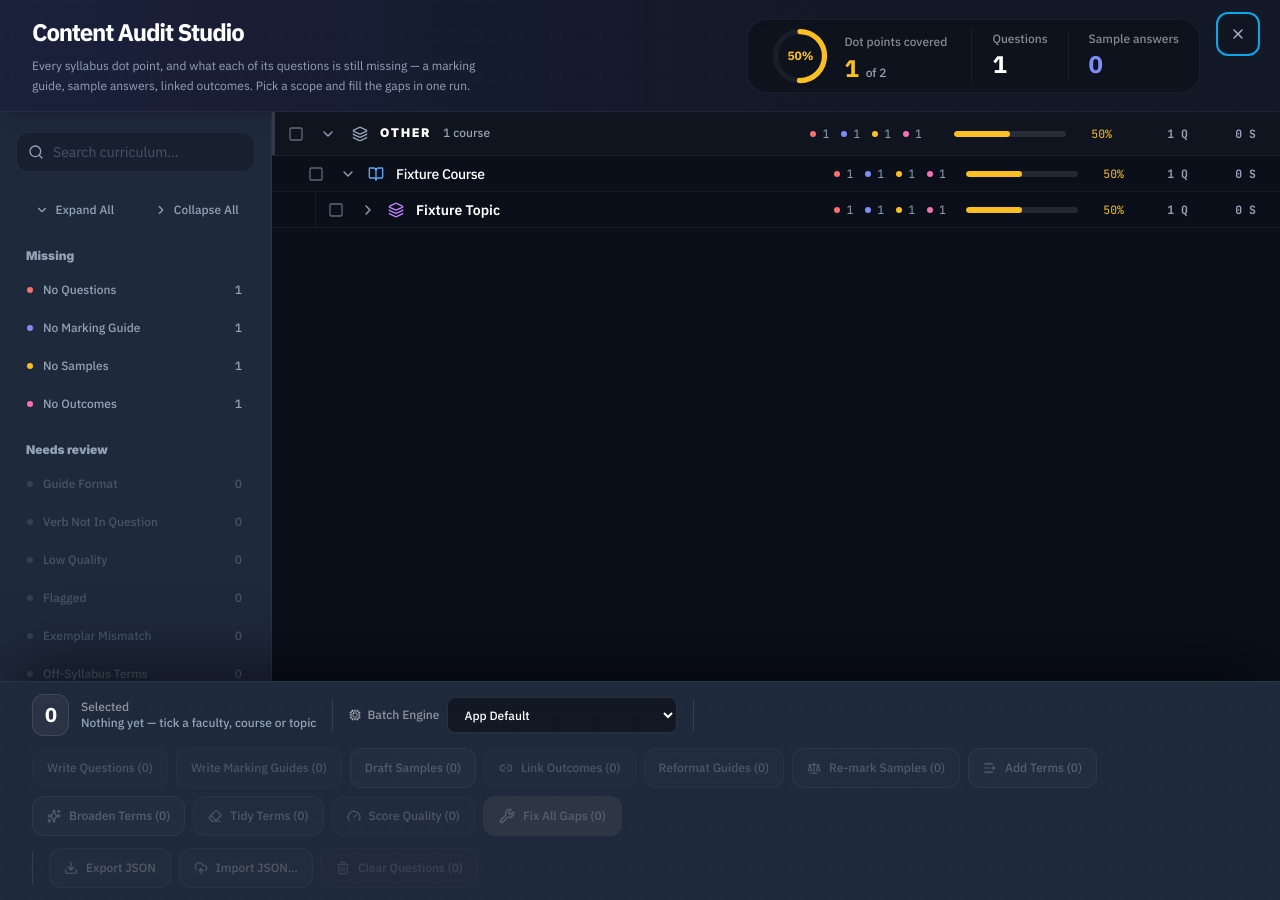
ContentAuditModal — gap visibility and batch targeting › shows inline gap badges without needing a filter
Note: Tree renders collapsed below course level by default — expand down to prompts.
Click the button named "Expand Fixture Topic": (368, 210) [356,198,380,222]
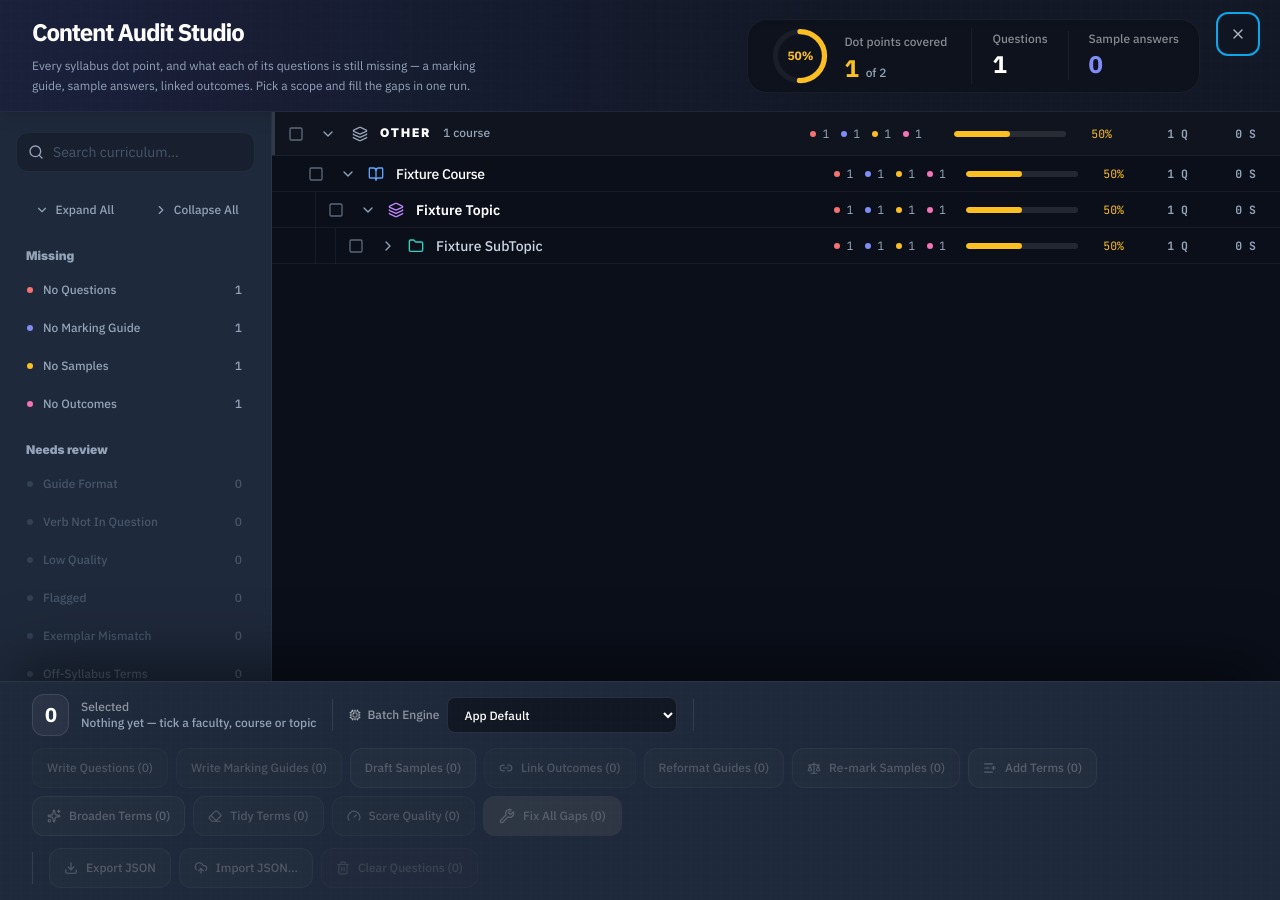
Click the button named "Expand Fixture SubTopic": (388, 246) [376,234,400,258]
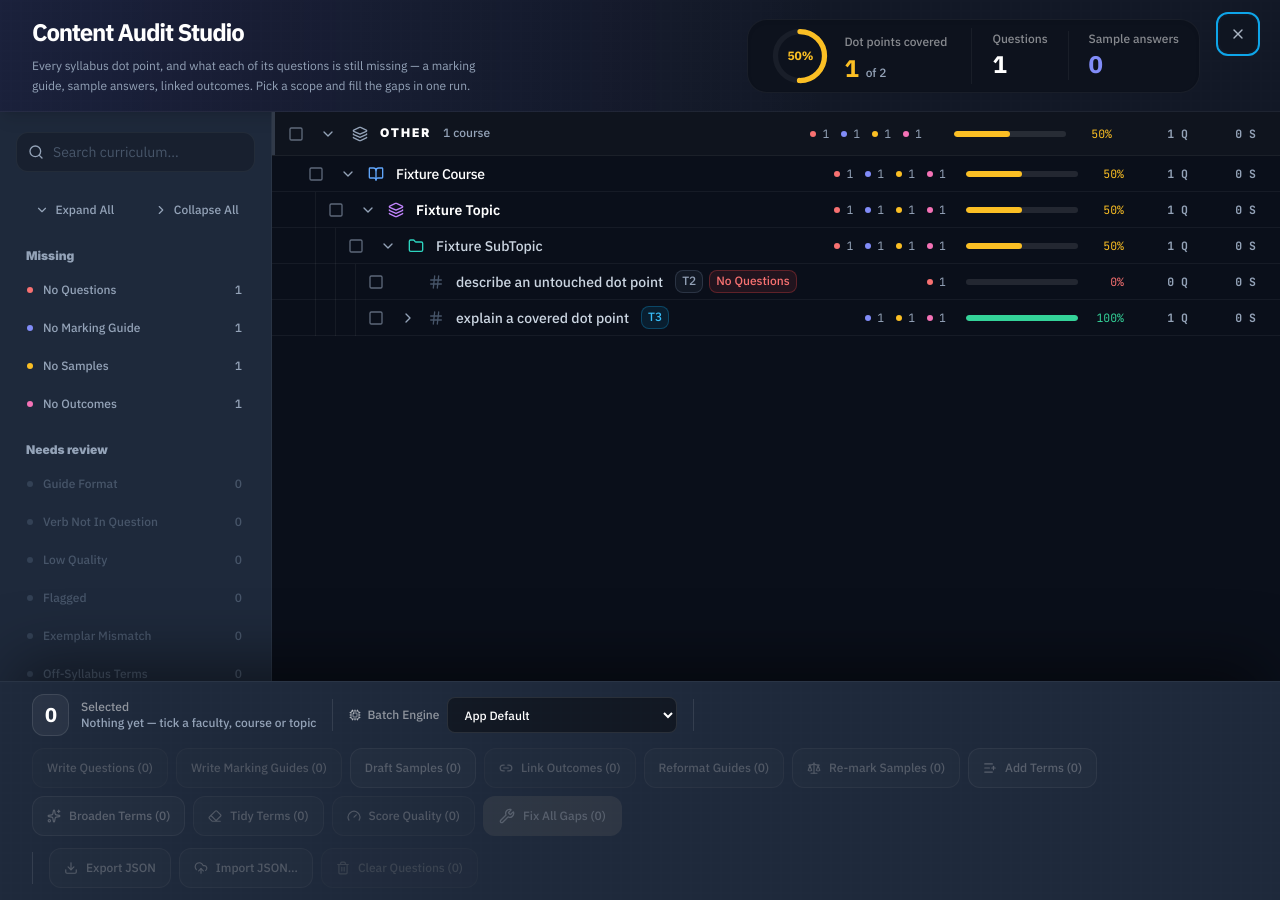
Click the button named "Expand explain a covered dot point": (408, 318) [396,306,420,330]
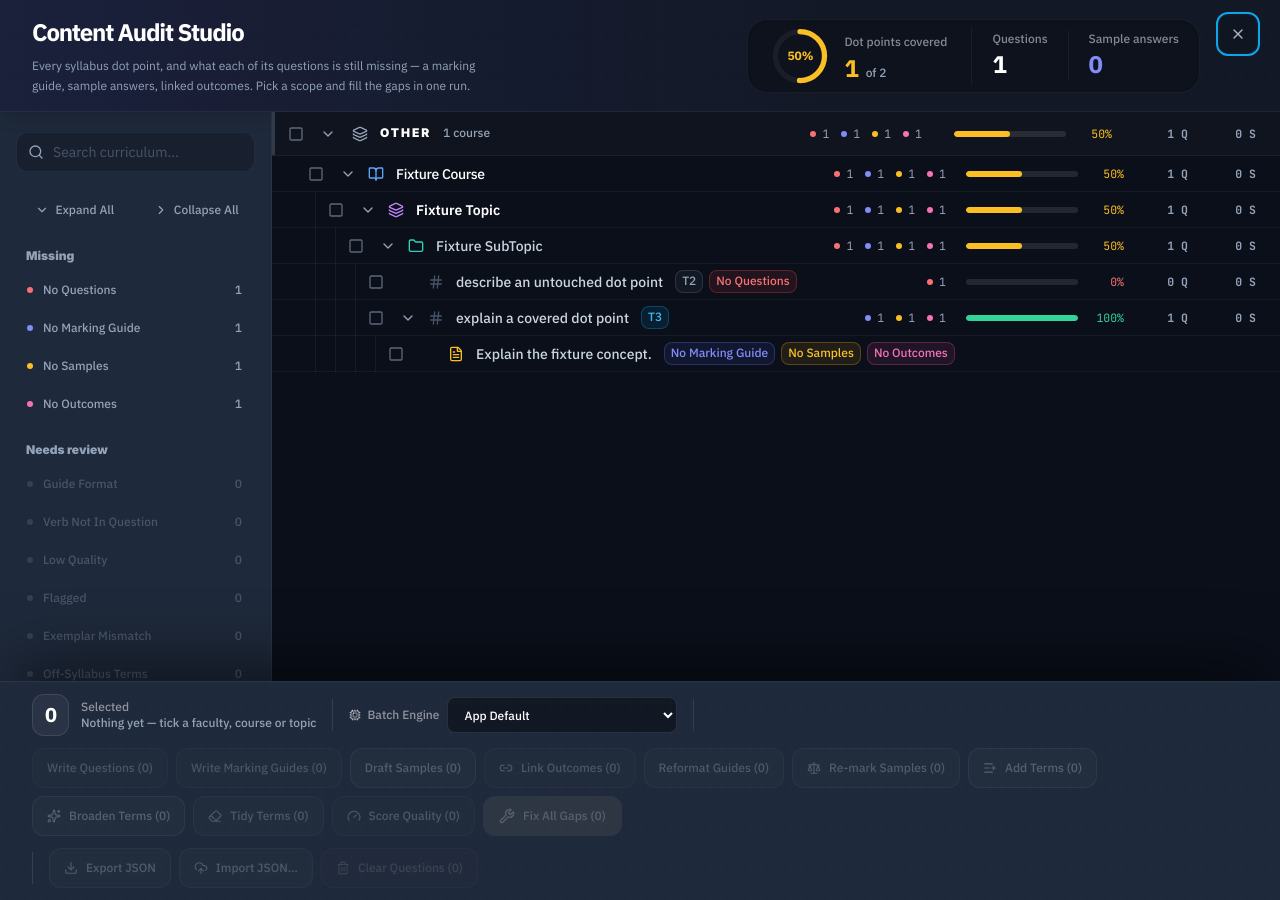
Check: the text "No Questions" next to "T2" is shown, box [716,273,790,288]
Check: the text "No Marking Guide" next to "Explain the fixture concept." is shown, box [671,345,768,360]
Check: the text "No Samples" in the row of "Explain the fixture concept." is shown, box [788,345,854,360]
